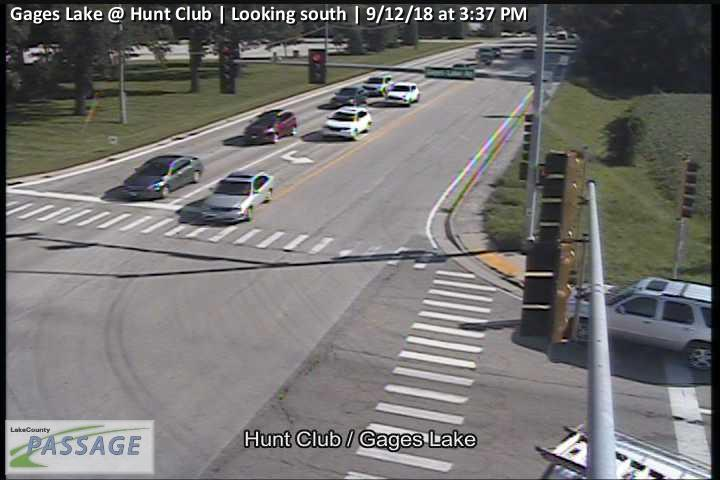SUV: (567, 277, 720, 372), (246, 110, 297, 144), (322, 104, 371, 139), (386, 82, 421, 105), (362, 74, 394, 94)
Sedan: (200, 171, 274, 222), (124, 155, 203, 198), (331, 87, 367, 107)
